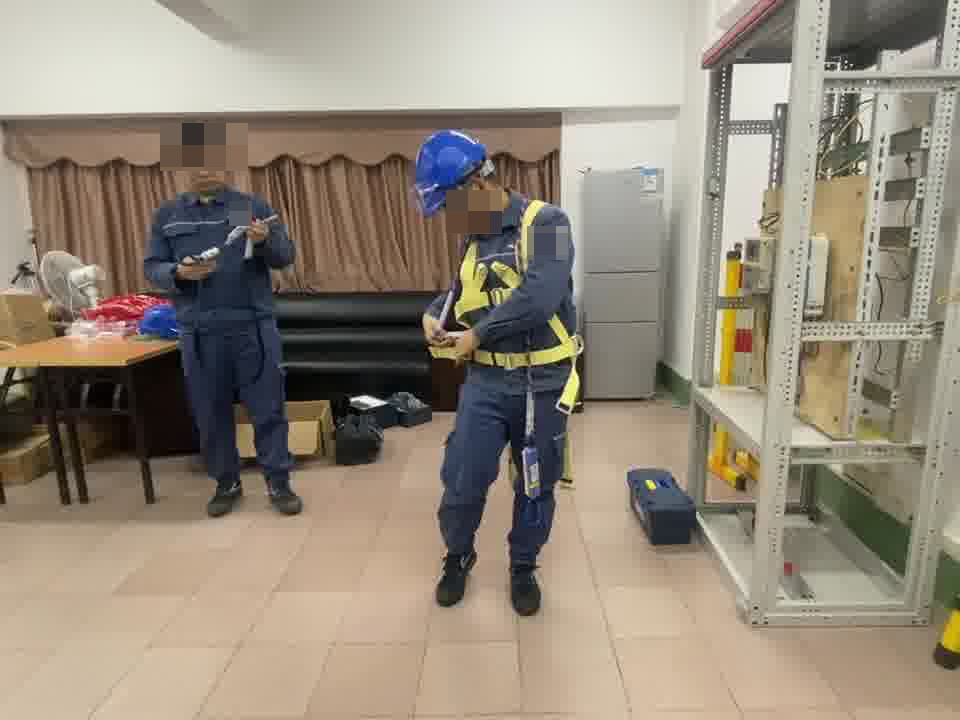downsuit: (437, 393, 568, 572), (184, 337, 296, 484)
halt: (413, 129, 495, 221), (171, 124, 229, 185)
hand: (172, 254, 214, 284), (445, 327, 480, 356), (243, 215, 272, 248), (420, 320, 449, 350)
inear: (452, 174, 493, 218)
noear: (170, 151, 200, 193)
person: (416, 127, 584, 611), (143, 124, 305, 513)
safebelt: (425, 194, 591, 489)
sleeve: (544, 227, 569, 262)
unhalt: (171, 124, 228, 188)
upsuit: (443, 188, 580, 364), (150, 187, 295, 324)
